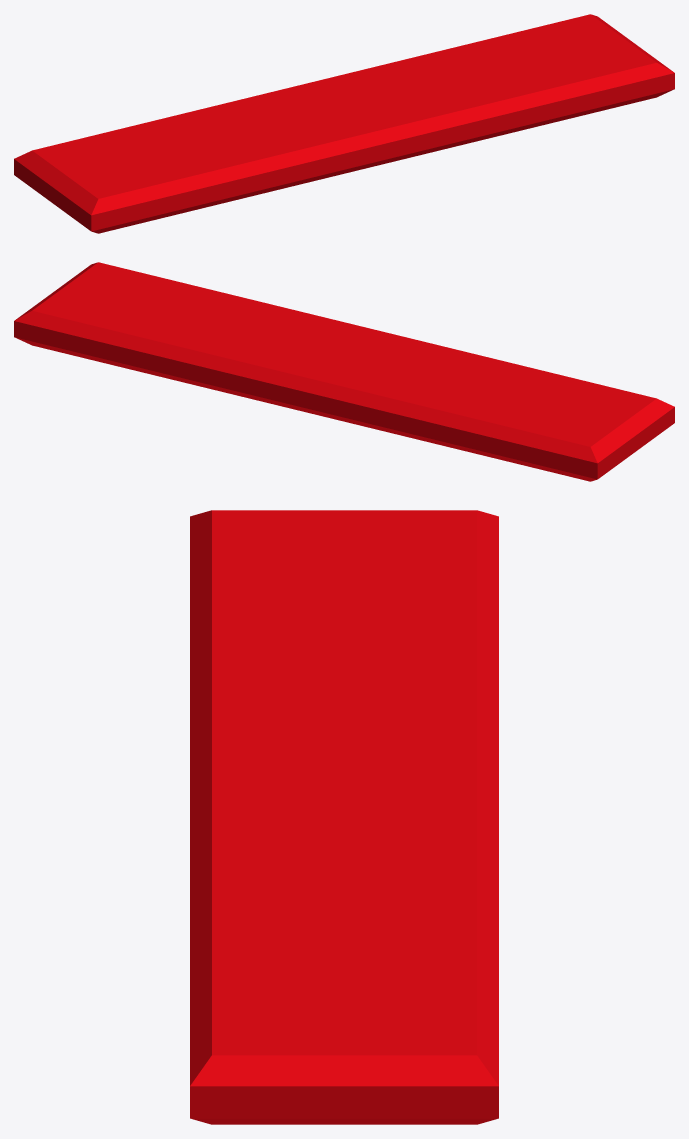
The model's file is WideLazer.fbx.
3 renders of one model, top to bottom at view 1: azimuth 30°, elevation 25°; view 2: azimuth 150°, elevation 25°; view 3: azimuth 270°, elevation 25°, orthographic. The views are drawn at different scales.
Parts seen in each view (by area): view 1: Cube.001; view 2: Cube.001; view 3: Cube.001.
Part boxes in pixels (box(x1,y1,x2,y2)): Cube.001: box(14, 14, 674, 233); Cube.001: box(14, 262, 674, 481); Cube.001: box(190, 510, 498, 1124).
Bounding box in the file's own units: 873 × 49.65 × 200.
